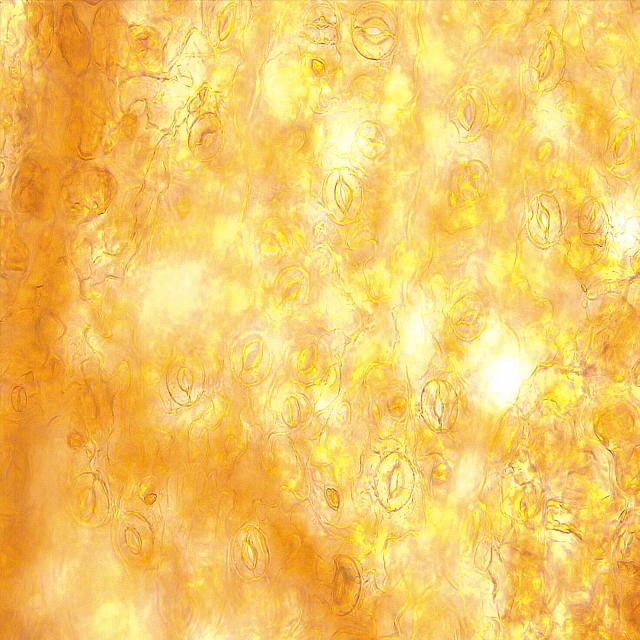Stomata: (351, 1, 398, 62), (320, 553, 363, 617), (228, 328, 274, 387), (527, 28, 566, 94), (601, 114, 640, 180), (373, 451, 415, 512), (68, 470, 111, 529), (448, 83, 490, 142), (322, 167, 364, 226), (116, 509, 156, 569), (232, 522, 271, 582), (165, 352, 206, 408), (420, 377, 460, 433), (525, 192, 563, 250), (288, 336, 331, 385), (187, 110, 225, 162), (271, 264, 310, 313), (450, 292, 486, 342), (207, 0, 243, 50), (304, 4, 339, 45)
